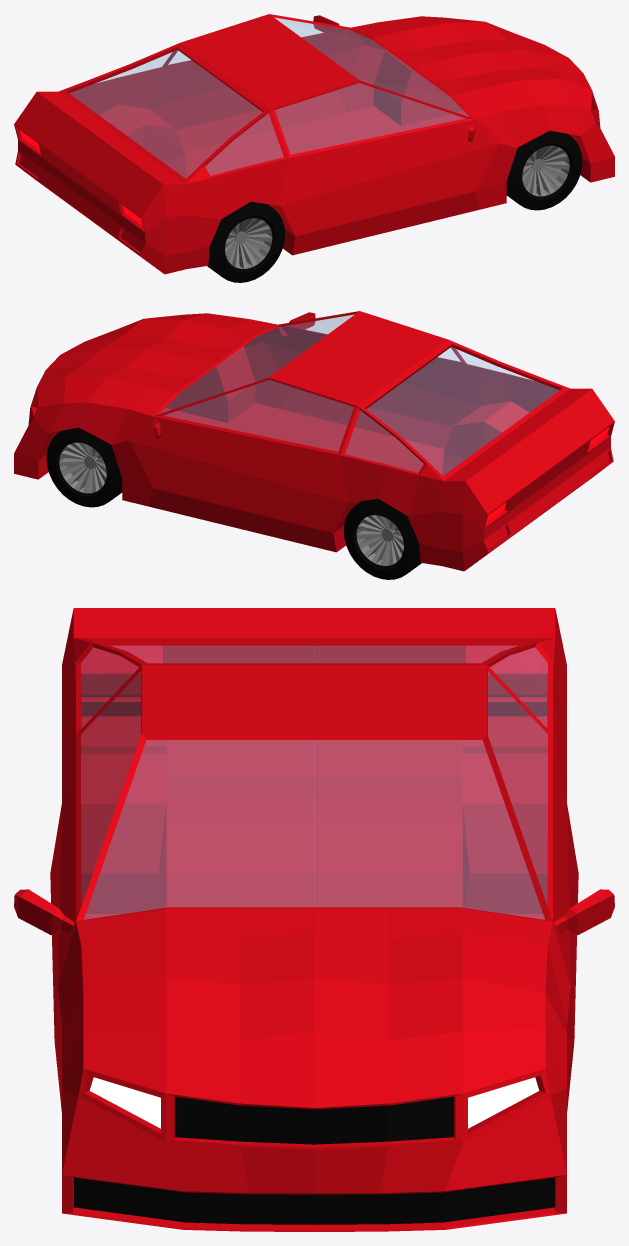
The model's file is red_car.glb.
3 renders of one model, top to bottom at view 1: azimuth 30°, elevation 25°; view 2: azimuth 150°, elevation 25°; view 3: azimuth 270°, elevation 25°, orthographic. The views are drawn at different scales.
Visible parts, largest first — view 1: Cube; view 2: Cube; view 3: Cube.
Boxes of the visible parts, x1,y1,x2,y2 form: Cube: [14, 14, 614, 282]; Cube: [14, 311, 614, 579]; Cube: [14, 608, 614, 1231].
Size of the model in its own units: 8.67 by 2.63 by 4.83.
